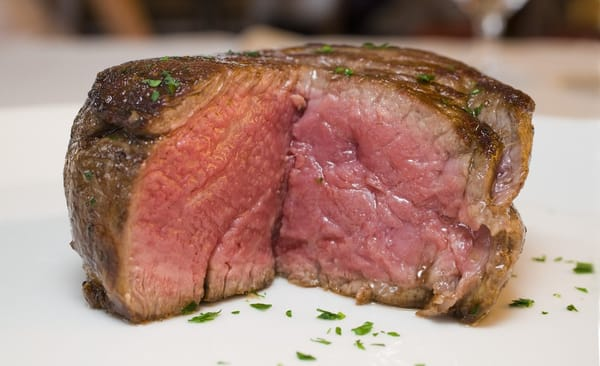soup: (67, 46, 538, 324)
